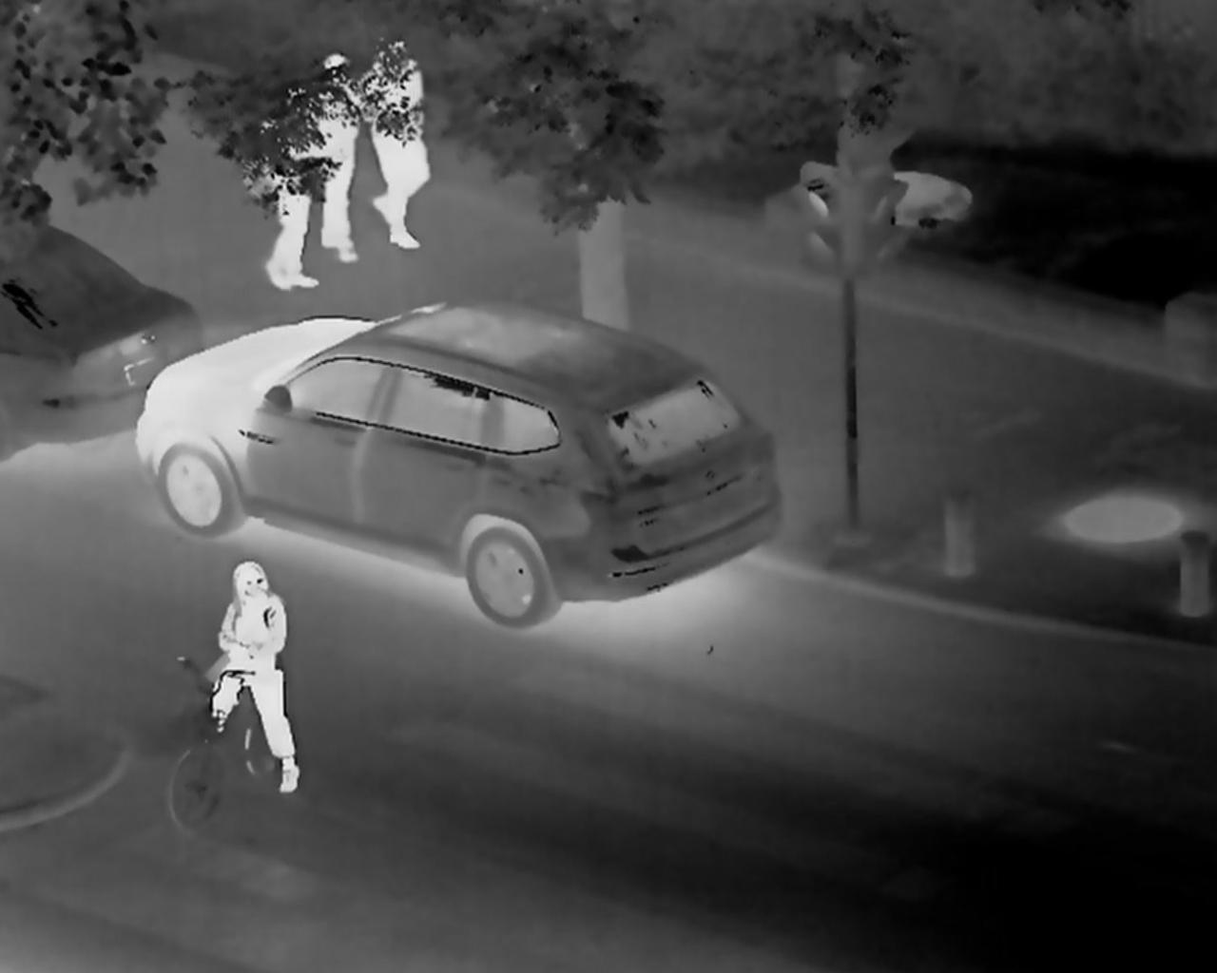person: (203, 555, 303, 800), (357, 31, 439, 254), (240, 82, 317, 292), (300, 48, 366, 265)
